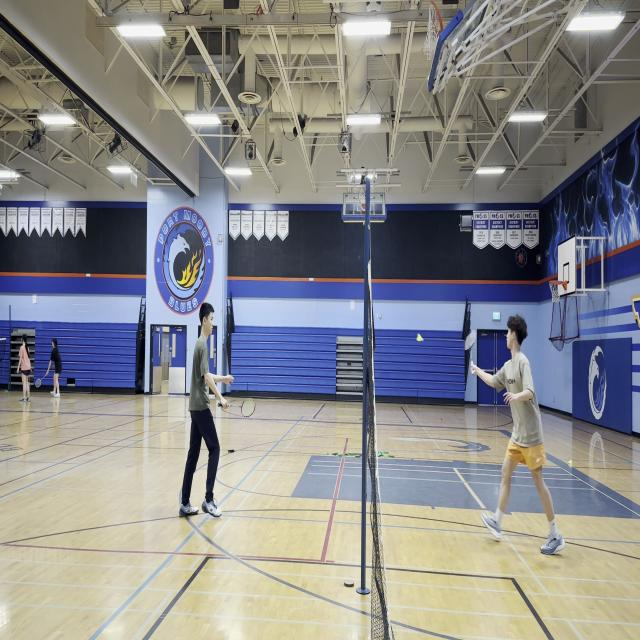shuttlecock: (417, 333, 423, 342)
